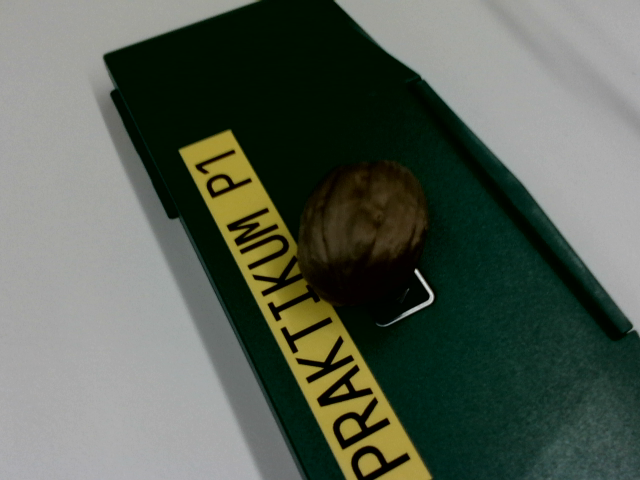walnut: (298, 161, 427, 304)
